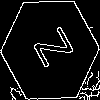Z: (25, 25, 74, 76)
